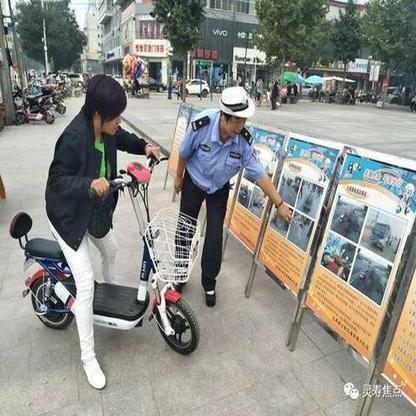target: (11, 76, 203, 389)
